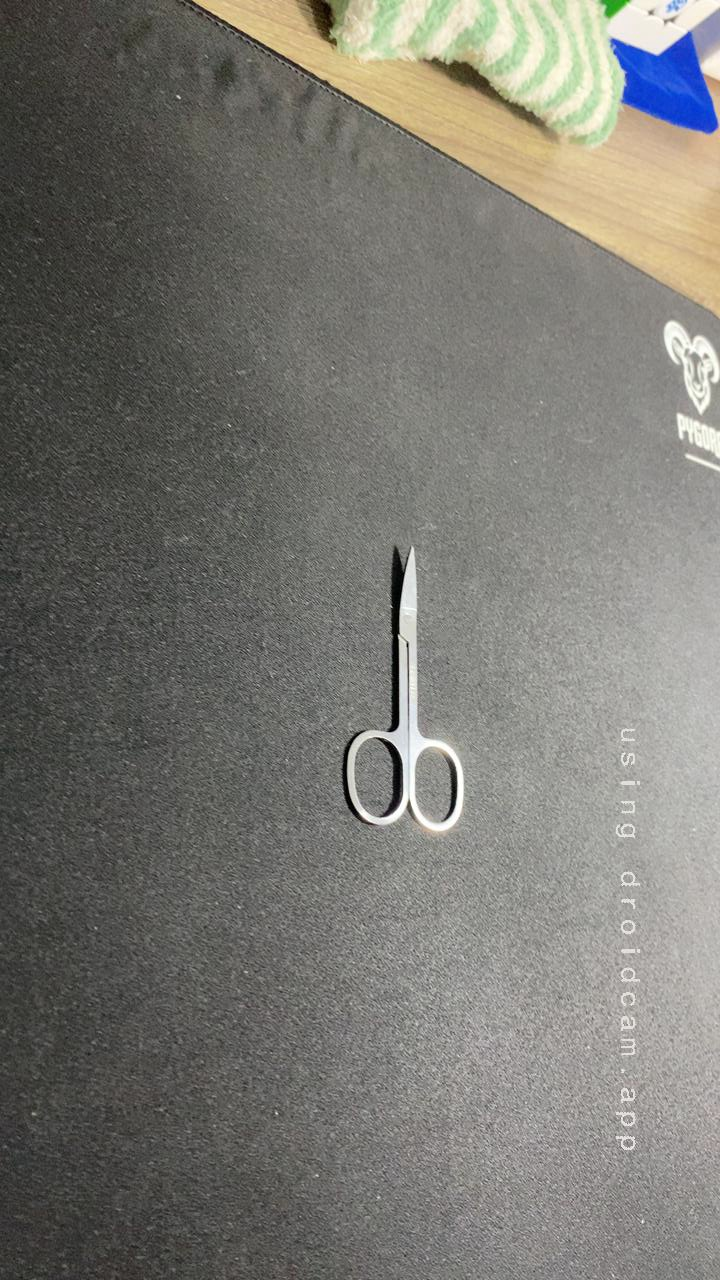scissor: (298, 520, 530, 861)
